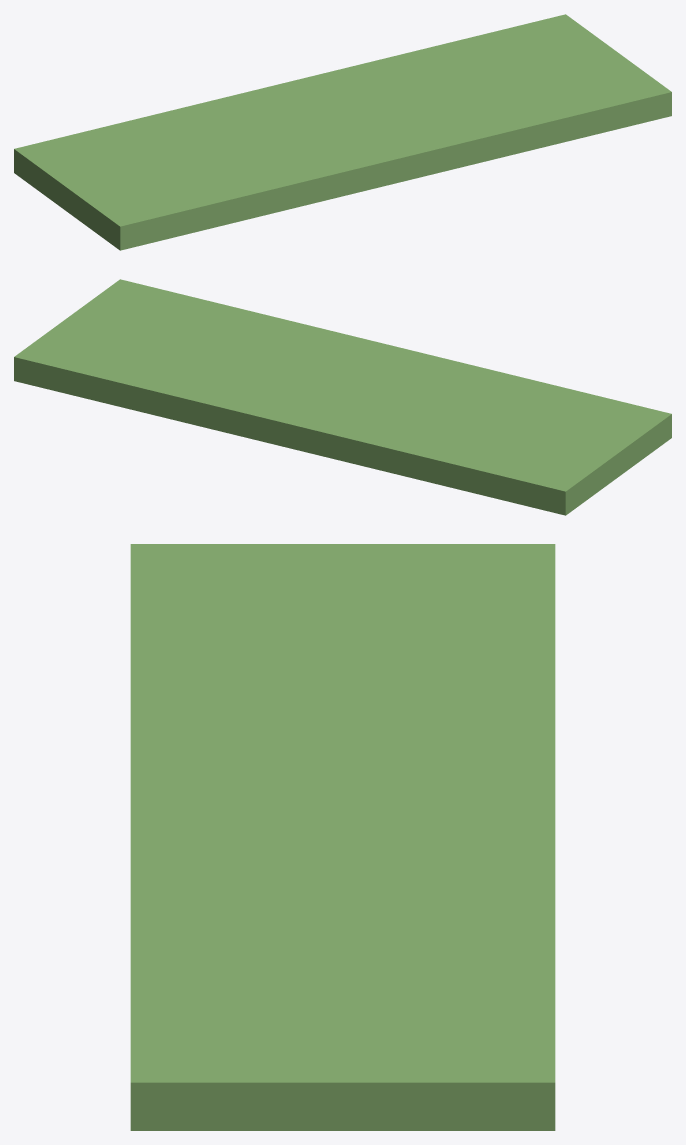
Rendered from grass_offset.fbx.
The picture shows the model from 3 angles, top to bottom: view 1: azimuth 30°, elevation 25°; view 2: azimuth 150°, elevation 25°; view 3: azimuth 270°, elevation 25°; orthographic projection. The views are drawn at different scales.
Parts seen in each view (by area): view 1: Cube.003; view 2: Cube.003; view 3: Cube.003.
Part boxes in pixels (bbox=[...]): Cube.003: bbox=[14, 14, 671, 250]; Cube.003: bbox=[14, 279, 671, 515]; Cube.003: bbox=[130, 544, 555, 1130].
Size of the model in its own units: 4800 by 200 by 1600.
